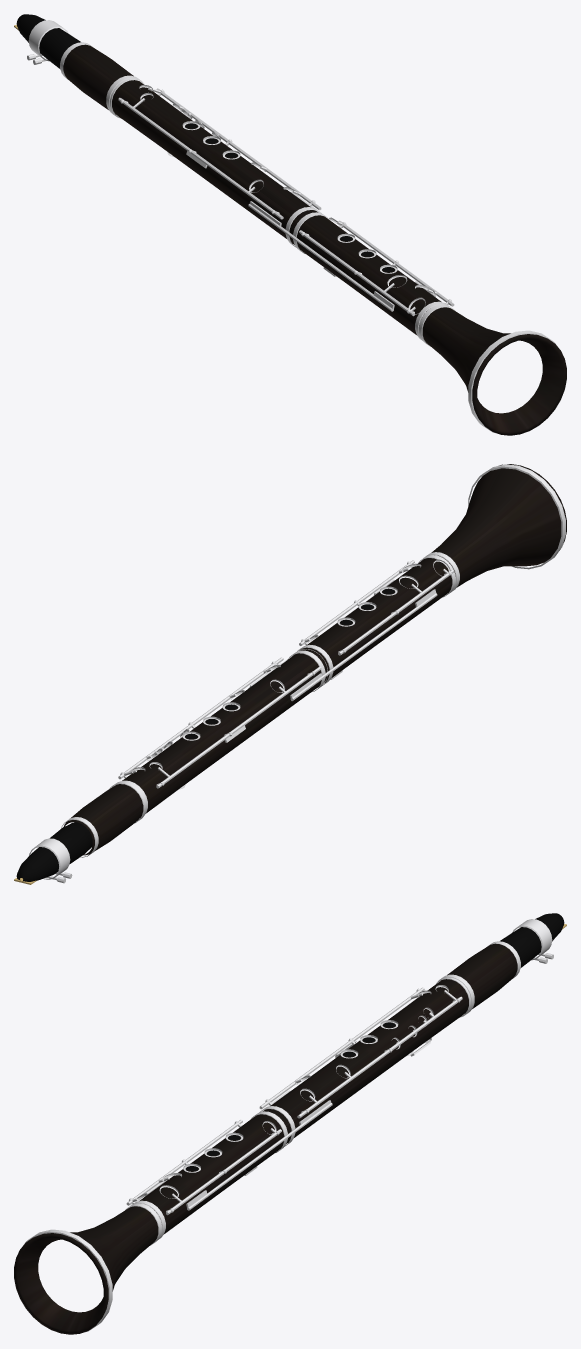
The model's file is clarinet.glb.
3 views of the same model, one above another, from view 1: azimuth 30°, elevation 25°; view 2: azimuth 150°, elevation 25°; view 3: azimuth 330°, elevation 25° (orthographic).
Visible parts, largest first — view 1: clarinet_grenadilla, clarinet_silver, clarinet_ebonite; view 2: clarinet_grenadilla, clarinet_silver, clarinet_ebonite; view 3: clarinet_grenadilla, clarinet_silver, clarinet_ebonite.
Part boxes in pixels (x1,y1,x2,y2): clarinet_grenadilla: (63, 44, 566, 435); clarinet_silver: (27, 20, 557, 433); clarinet_ebonite: (16, 14, 394, 272); clarinet_grenadilla: (64, 464, 566, 855); clarinet_silver: (29, 464, 565, 883); clarinet_ebonite: (16, 588, 394, 881); clarinet_grenadilla: (14, 943, 517, 1334); clarinet_silver: (23, 919, 553, 1332); clarinet_ebonite: (186, 913, 564, 1171).
Size of the model in its own units: 0.0725 by 0.0732 by 0.66.
Materials: 4 (1 with a texture image).
